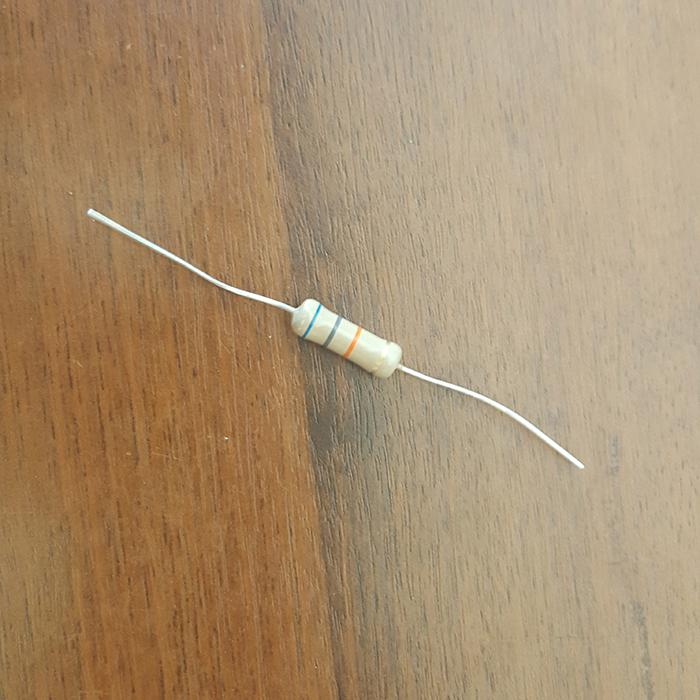resistor: (288, 297, 401, 376)
